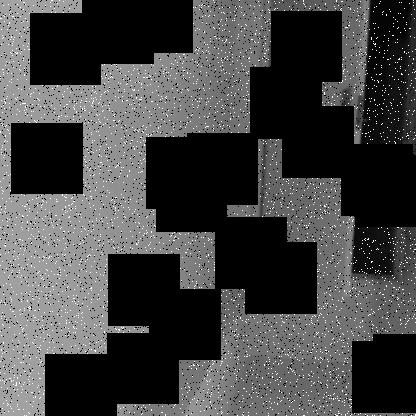Porte: (245, 1, 416, 298)
